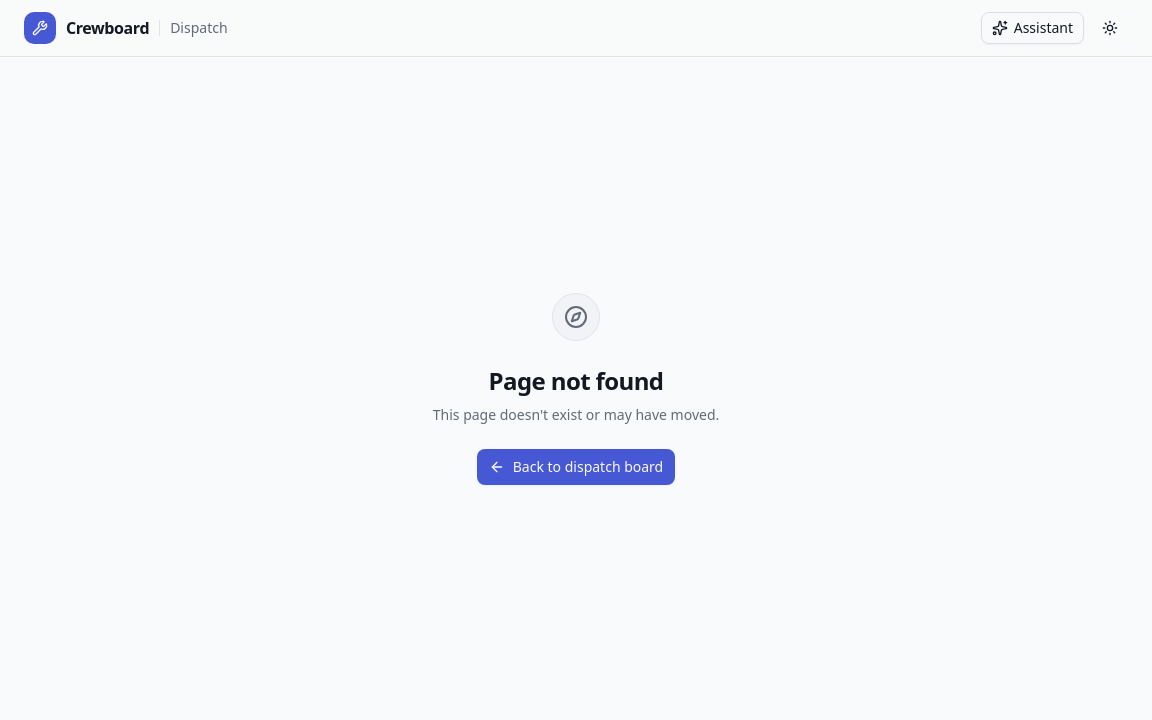
App › shows a not-found page for unknown paths with a link back to the board
Expected: the header is shown, [0, 0, 1151, 57]
Expected: the heading "Page not found" is shown, [488, 364, 663, 396]
Click the link "Back to dispatch board". click: (576,466)
box: [477, 448, 675, 484]
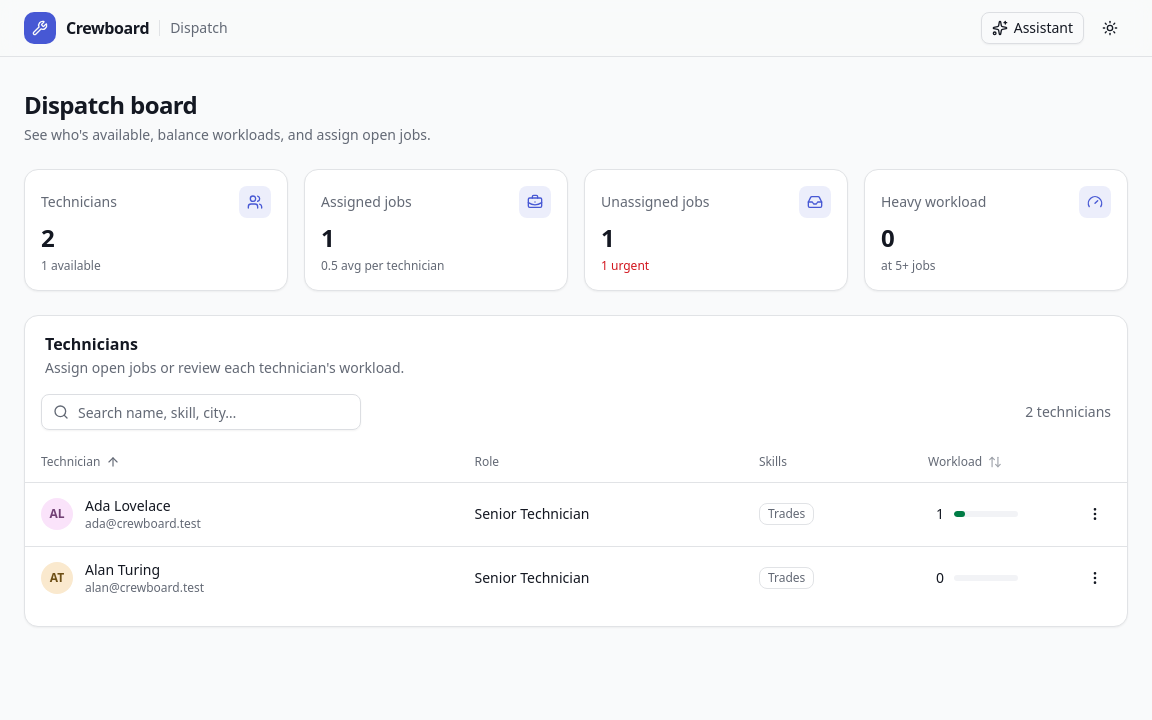
Now the heading "Dispatch board" is shown, box [24, 88, 197, 121]
Now the table named "Technicians" is shown, box [25, 442, 1127, 610]
